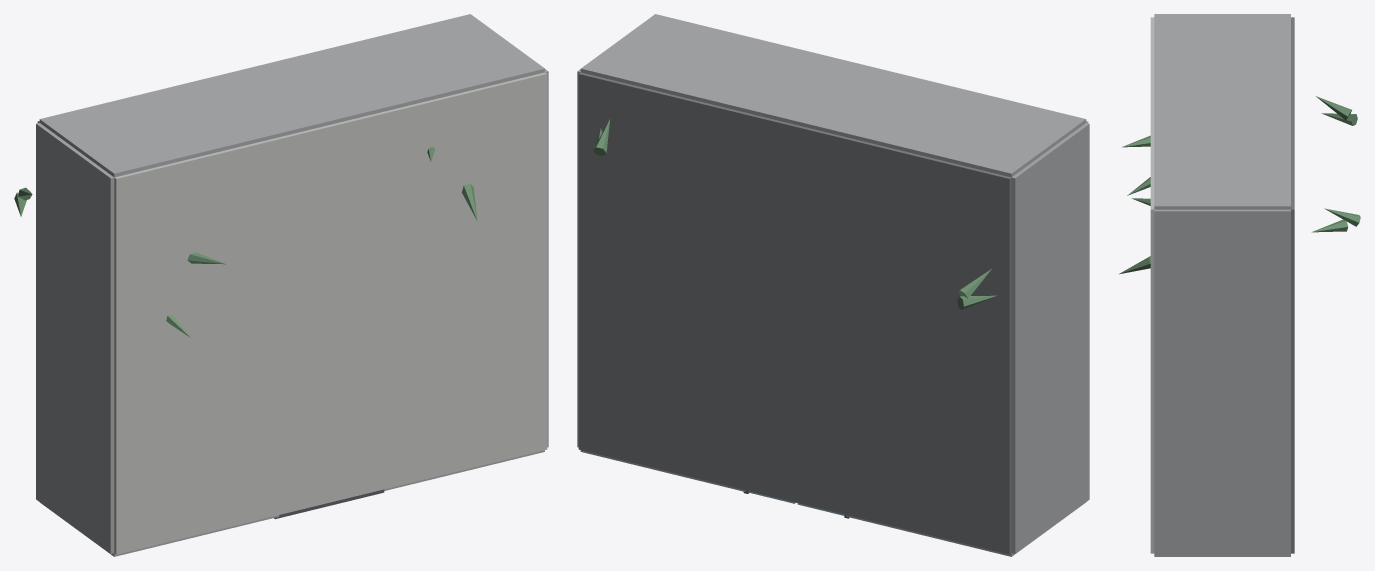
File: beholder_reception_level1.glb
3 views of the same model, side by side, from view 1: azimuth 30°, elevation 25°; view 2: azimuth 150°, elevation 25°; view 3: azimuth 270°, elevation 25° (orthographic). The views are drawn at different scales.
Visible parts, largest first — view 1: Ceiling, Wall_Back, Wall_Left, Wall_Right; view 2: Floor, Wall_Back, Wall_Left, Wall_Right; view 3: Wall_Right, Wall_Back, Ceiling, Floor.
Boxes of the visible parts, x1,y1,x2,y2 form: Ceiling: (114,72,547,554); Wall_Back: (39,14,544,177); Wall_Left: (36,123,114,553); Wall_Right: (545,69,548,447); Floor: (578,72,1011,554); Wall_Back: (580,14,1086,177); Wall_Left: (1011,123,1089,553); Wall_Right: (577,69,580,447); Wall_Right: (1154,209,1290,554); Wall_Back: (1154,14,1290,209); Ceiling: (1150,17,1154,553); Floor: (1291,17,1294,553).
Size of the model in its own units: 12.2 by 10.24 by 6.4.
